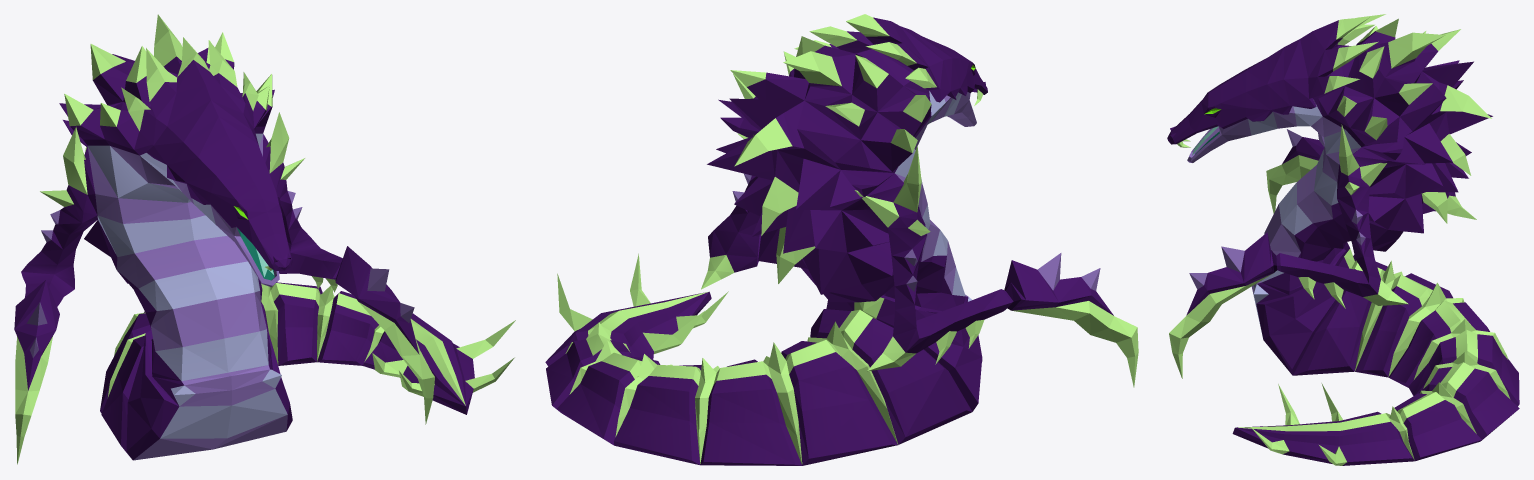
The picture shows the model from 3 angles, left to right: view 1: azimuth 30°, elevation 25°; view 2: azimuth 150°, elevation 25°; view 3: azimuth 270°, elevation 25°; orthographic projection. The views are drawn at different scales.
Parts seen in each view (by area): view 1: Alien_Serpent; view 2: Alien_Serpent; view 3: Alien_Serpent.
Boxes of the visible parts, left/top/right/bottom form: Alien_Serpent: left=14, top=14, right=515, bottom=464; Alien_Serpent: left=545, top=14, right=1138, bottom=465; Alien_Serpent: left=1167, top=14, right=1519, bottom=465.
Bounding box in the file's own units: 299 × 206 × 196.
Materials: 1 (1 with a texture image).
